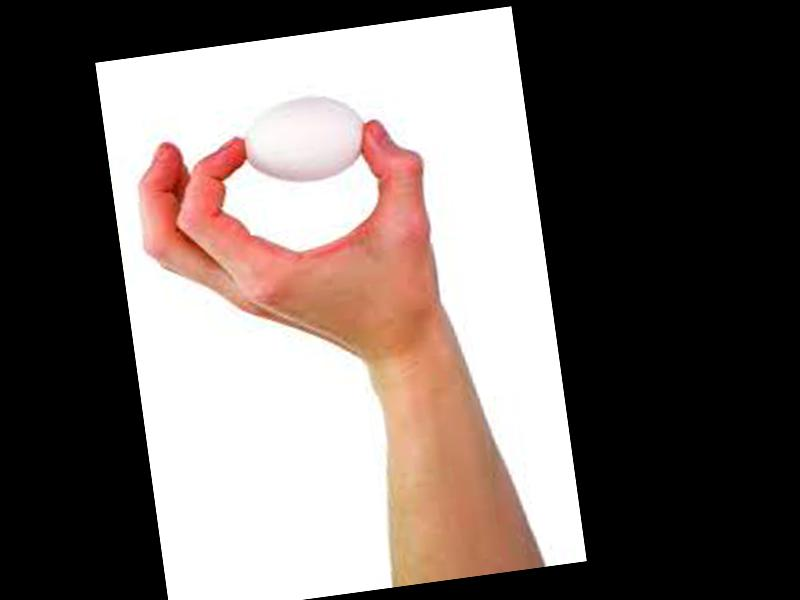Eggs: (238, 90, 369, 189)
